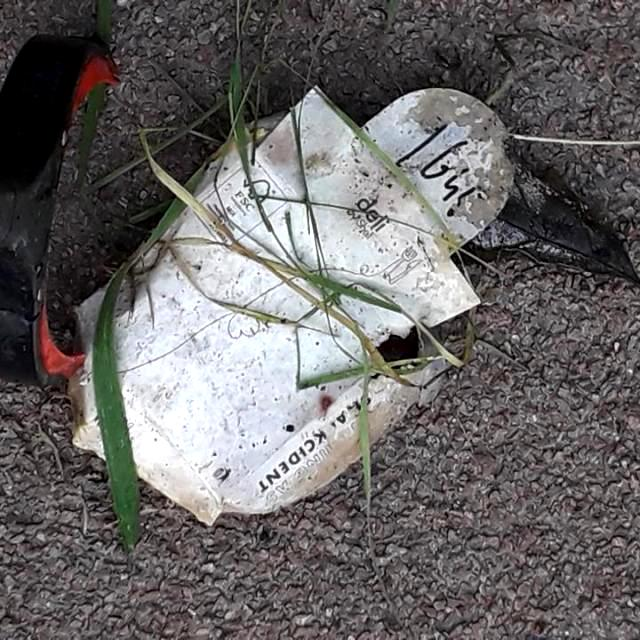Paper: (67, 80, 516, 528)
